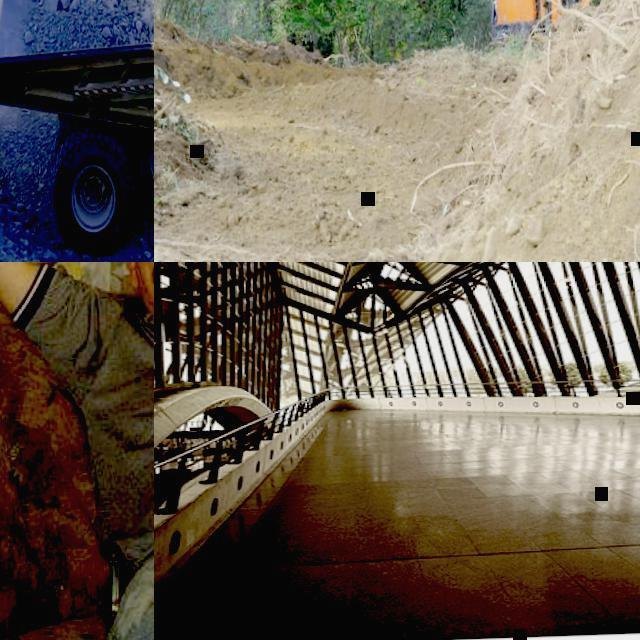machinery: (0, 0, 154, 256)
no_vest: (81, 286, 154, 552)
person: (0, 262, 154, 640)
